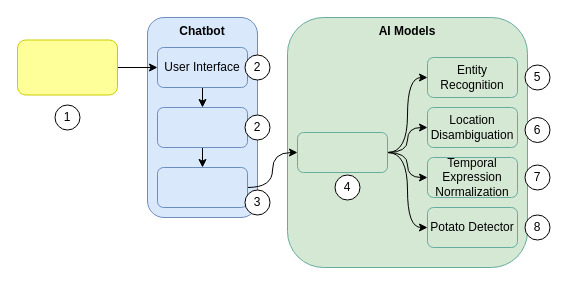
Some shapes in this 585 by 285 pixel diagram are drawn without their labels. The shapes that lost their labels are listed below. From the top down, each one's box as (x1, y1, x2, y2) in pixels, then its label:
(16, 39, 118, 95): User with Web Browser
(156, 106, 248, 148): Chatbot API
(296, 132, 388, 172): AI Models API
(156, 166, 248, 208): PotatoBot
